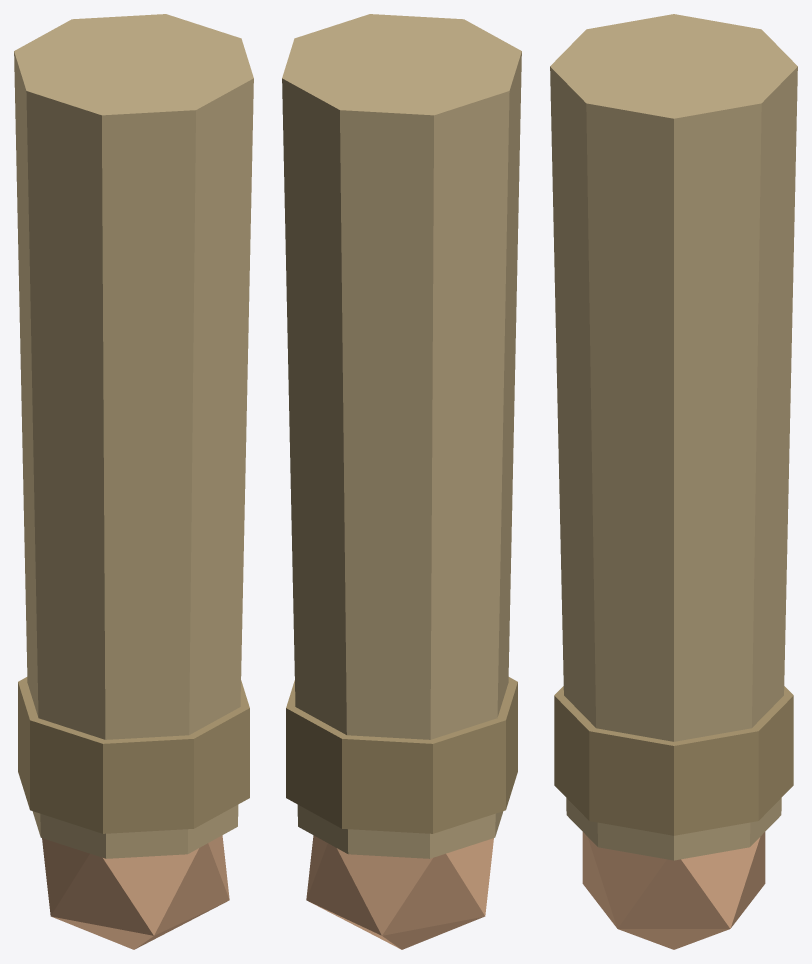
The model's file is insan_e2_kol.glb.
The picture shows the model from 3 angles, left to right: view 1: azimuth 30°, elevation 25°; view 2: azimuth 150°, elevation 25°; view 3: azimuth 270°, elevation 25°; orthographic projection.
Visible parts, largest first — view 1: Cone; view 2: Cone; view 3: Cone.
Boxes of the visible parts, bbox=[...] form: Cone: bbox=[14, 14, 253, 949]; Cone: bbox=[282, 14, 521, 949]; Cone: bbox=[550, 14, 797, 949].
Bounding box in the file's own units: 0.03 × 0.118 × 0.03.
